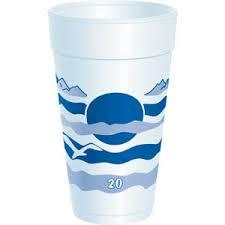Plastic cup: (42, 5, 196, 225)
